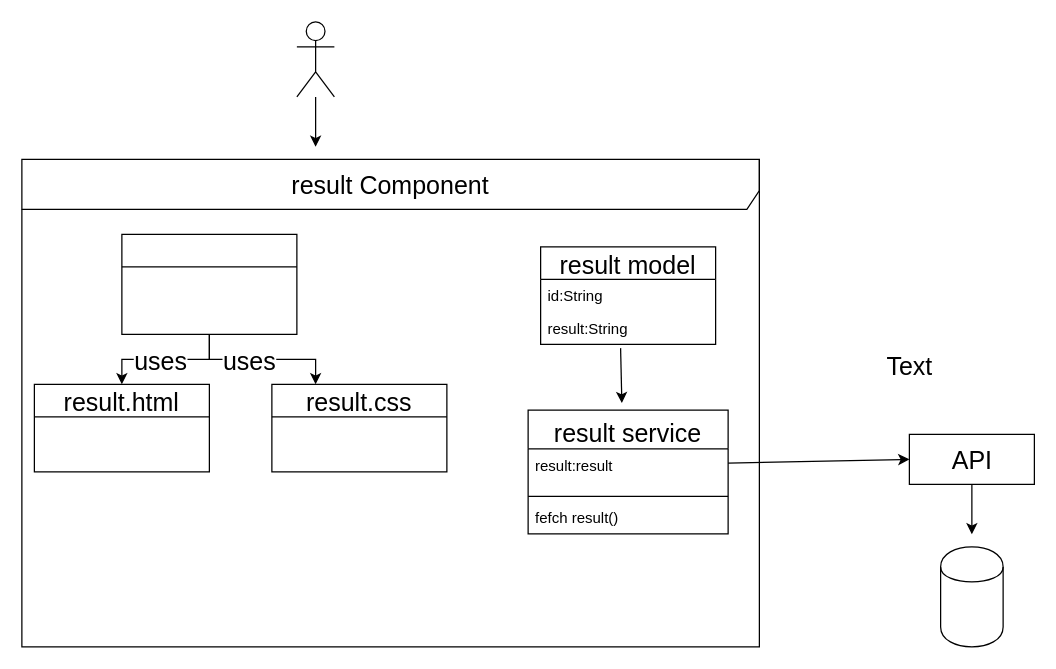
Some shapes in this 1056 by 669 pixel diagram are drawn without their labels. The shapes that lost their labels are listed below. From the top down, each one's centre as x and y in pixels, then its label:
(x=209, y=283): result.ts
(x=971, y=596): DB
